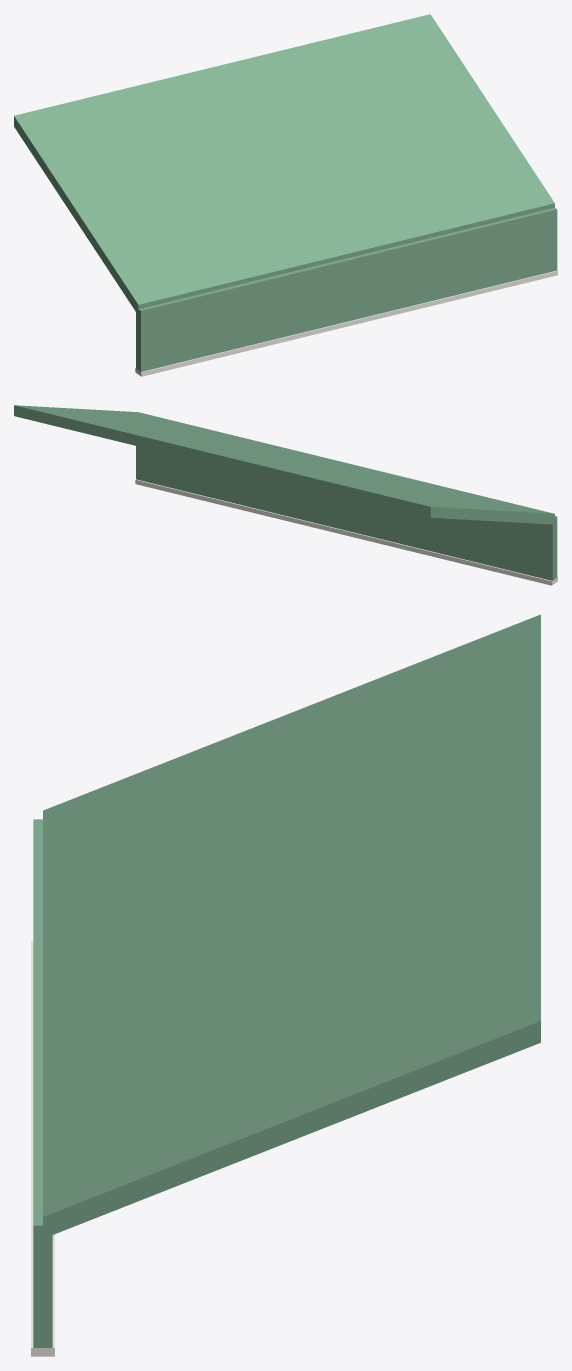
The model's file is awning.glb.
3 renders of one model, top to bottom at view 1: azimuth 30°, elevation 25°; view 2: azimuth 150°, elevation 25°; view 3: azimuth 270°, elevation 25°, orthographic. The views are drawn at different scales.
Parts seen in each view (by area): view 1: awning_canvas, awning_trim; view 2: awning_canvas, awning_trim; view 3: awning_canvas, awning_trim.
Part boxes in pixels (x1=…): awning_canvas: x1=14, y1=14, x2=557, y2=371; awning_trim: x1=135, y1=270, x2=557, y2=376; awning_canvas: x1=14, y1=405, x2=557, y2=580; awning_trim: x1=135, y1=479, x2=557, y2=585; awning_canvas: x1=33, y1=614, x2=540, y2=1347; awning_trim: x1=31, y1=941, x2=54, y2=1356.
Bounding box in the file's own units: 2 × 0.77 × 1.06.
